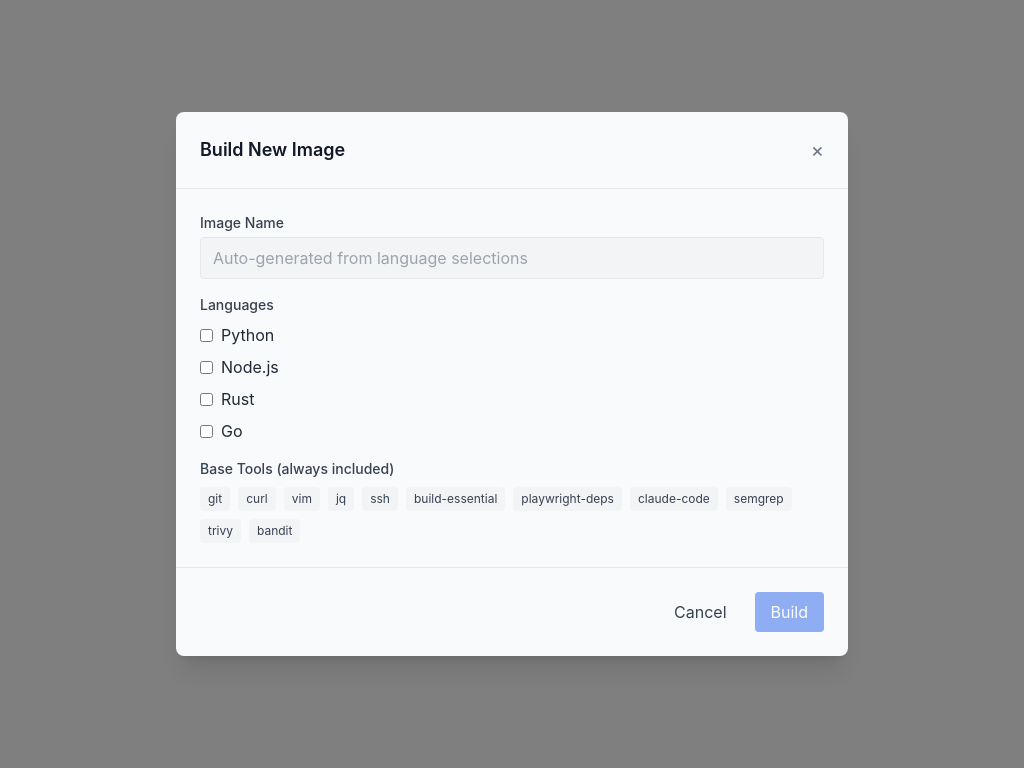
ImageBuilderDialog › unchecking a language hides its version dropdown
Click the checkbox labelled "Python" at (206,335), box x1=200 y1=328 x2=213 y2=342
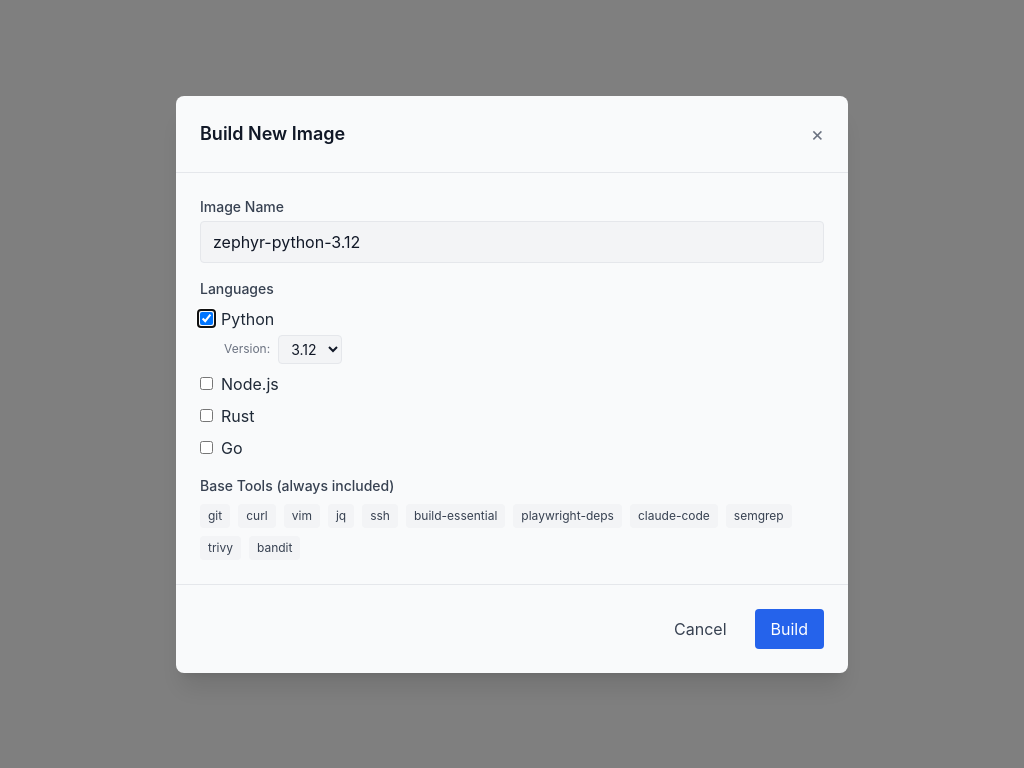
Expected: the dropdown labelled "Version:" is shown, x1=278 y1=334 x2=342 y2=364
Click the checkbox labelled "Python" at (206,318), box x1=200 y1=312 x2=213 y2=325
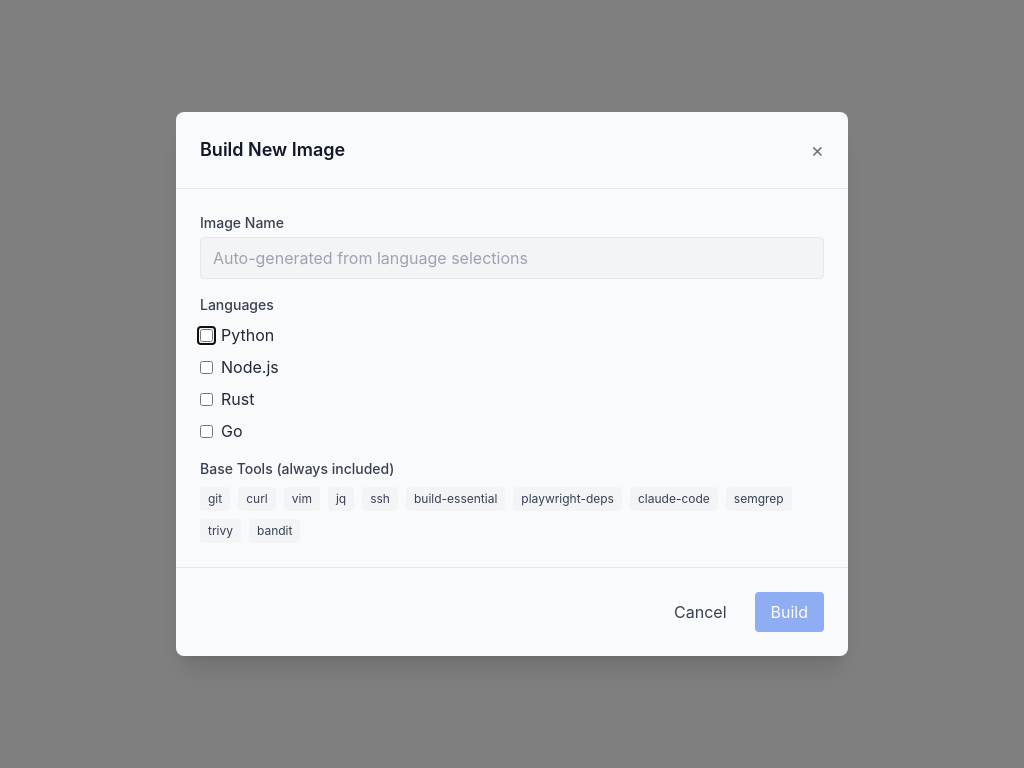
Expected: the label labelled "Version" is gone
